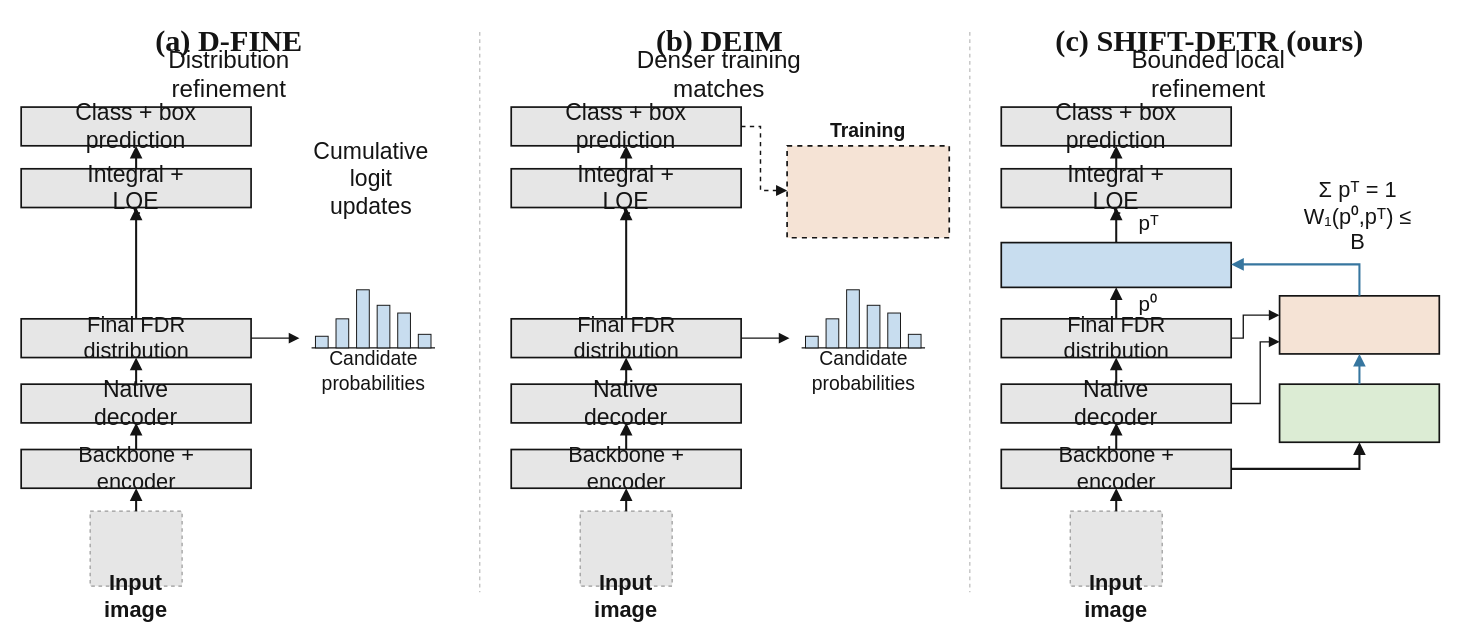
The diagram is 1462 pixels wide and 641 high, and some of its shapes have lost their labels. Grey dashed boxes stand in for pictures. The shapes that lost their labels are listed below. From the top down, each one's box as (x1, y1, x2, y2) in pixels, then its label:
(786, 144, 949, 238): Dense one-to-one matching
(1000, 241, 1231, 288): Local transport
(1278, 294, 1440, 354): Adjacent-pair comparison
(1278, 383, 1440, 442): Selective field (stride 8)
